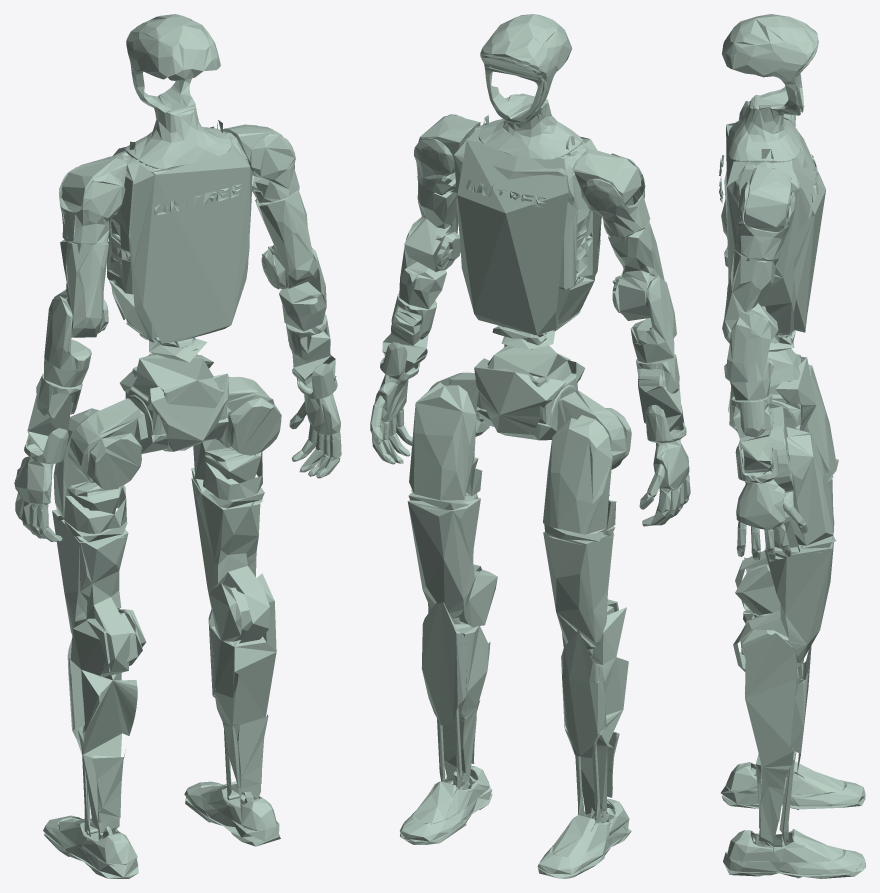
File: cass.glb
The picture shows the model from 3 angles, left to right: view 1: azimuth 30°, elevation 25°; view 2: azimuth 150°, elevation 25°; view 3: azimuth 270°, elevation 25°; orthographic projection. The views are drawn at different scales.
Visible parts, largest first — view 1: part_16, part_18, part_5, part_10, part_11, part_4, part_2, part_0, part_3, part_29, part_21, part_13 (+19 smaller); view 2: part_16, part_18, part_5, part_11, part_10, part_3, part_9, part_4, part_1, part_13, part_7, part_0 (+19 smaller); view 3: part_18, part_11, part_16, part_10, part_13, part_9, part_7, part_34, part_30, part_29, part_27, part_4 (+9 smaller).
Part boxes in pixels (x1,y1,x2,y2): part_16: [107, 120, 252, 343]; part_18: [125, 14, 231, 168]; part_5: [67, 620, 137, 836]; part_10: [191, 467, 269, 643]; part_11: [208, 573, 276, 804]; part_4: [52, 509, 146, 677]; part_2: [68, 398, 148, 489]; part_0: [125, 354, 228, 453]; part_3: [53, 408, 126, 533]; part_29: [255, 190, 318, 289]; part_21: [54, 239, 108, 337]; part_13: [184, 781, 280, 846]; part_16: [454, 115, 601, 335]; part_18: [478, 14, 582, 159]; part_5: [561, 607, 628, 823]; part_11: [421, 602, 490, 789]; part_10: [407, 492, 497, 627]; part_3: [543, 415, 616, 534]; part_9: [409, 382, 482, 500]; part_4: [543, 524, 618, 657]; part_1: [474, 344, 585, 439]; part_13: [400, 765, 492, 844]; part_7: [537, 798, 631, 878]; part_0: [476, 345, 577, 440]; part_18: [722, 14, 818, 162]; part_11: [744, 633, 811, 844]; part_16: [724, 119, 825, 335]; part_10: [733, 536, 835, 671]; part_13: [723, 829, 865, 878]; part_9: [773, 426, 834, 548]; part_7: [721, 761, 865, 809]; part_34: [736, 479, 807, 561]; part_30: [724, 314, 774, 400]; part_29: [722, 250, 778, 343]; part_27: [744, 167, 791, 231]; part_4: [735, 459, 838, 615].
Bounding box in the file's own units: 0.5224 × 1.32 × 0.216.
